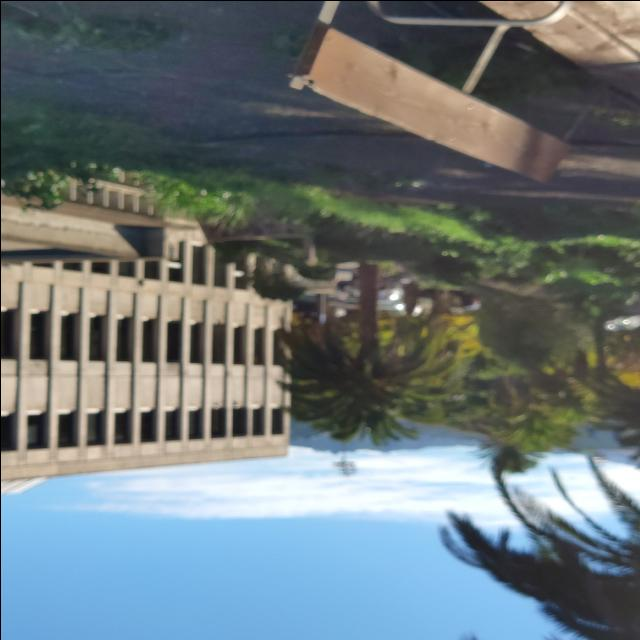Palm-Trees: (276, 260, 468, 443)
